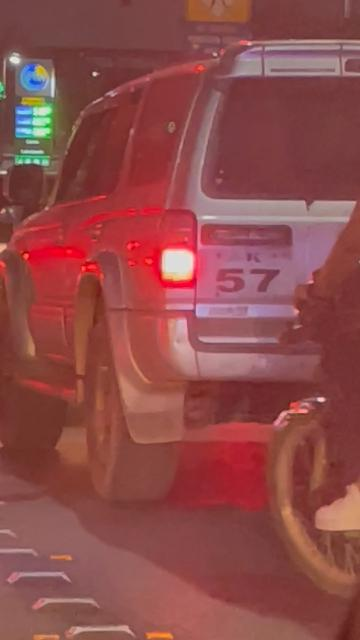plate: (197, 250, 297, 316)
